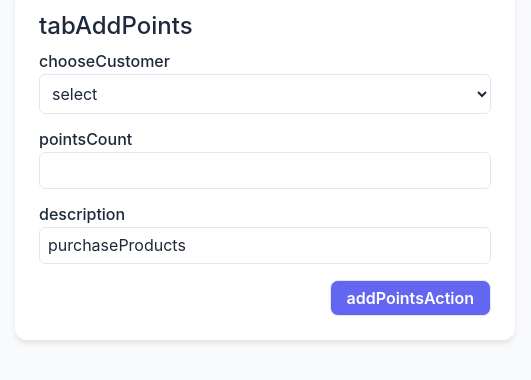
AddPointsSection › rejects a non-positive point count
Select "Jan Kowalski (C001)" in the dropdown labelled "chooseCustomer" at (265, 94), box [39,74,491,114]
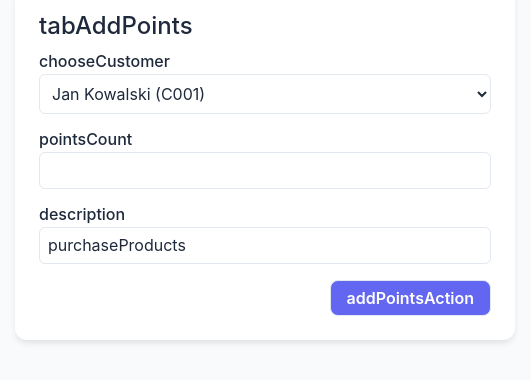
Type "0" into the number field labelled "pointsCount" at (265, 171), box [39,152,491,189]
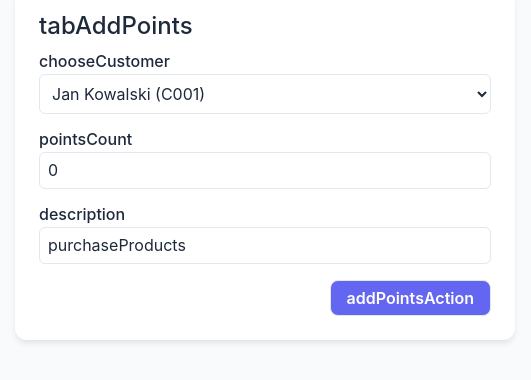
Click the button "addPointsAction" at (410, 298), box [330,280,491,316]
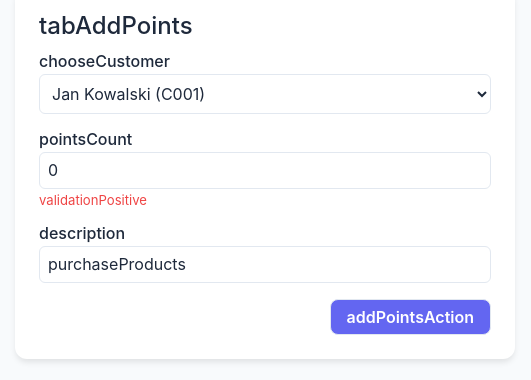
Result: the text "validationPositive" is shown at [39,192,147,208]
